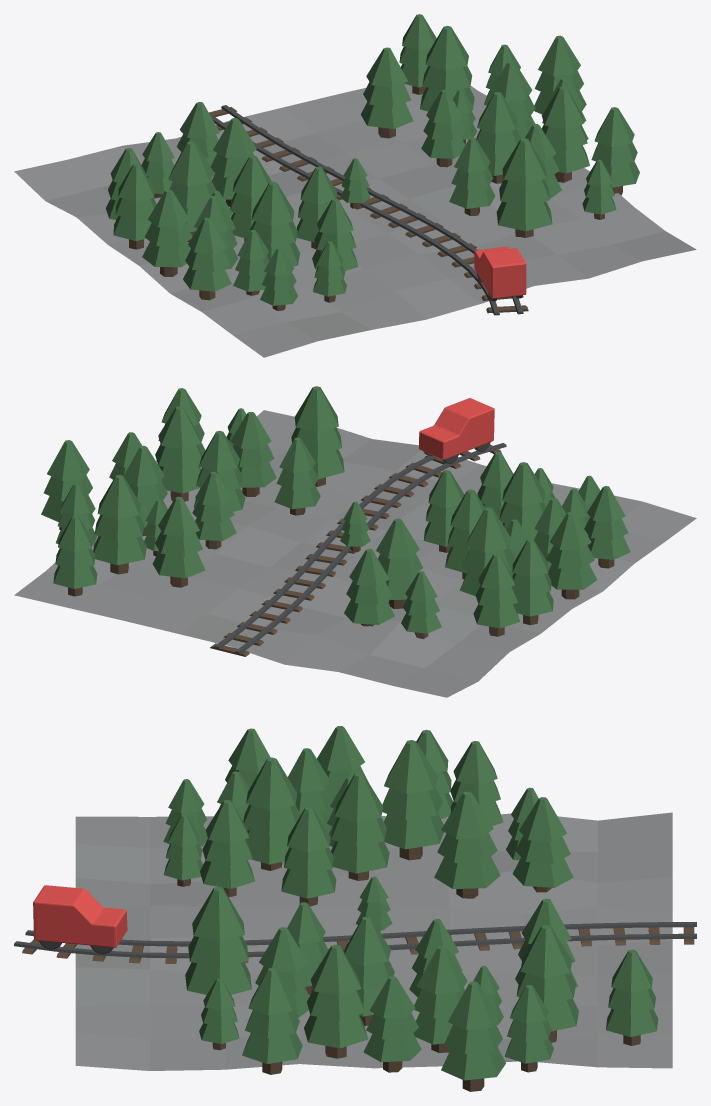
File: Dwarf.gltf
The picture shows the model from 3 angles, top to bottom: view 1: azimuth 30°, elevation 25°; view 2: azimuth 150°, elevation 25°; view 3: azimuth 270°, elevation 25°; orthographic projection. The views are drawn at different scales.
Visible parts, largest first — view 1: Pine_Tree_01 - copy (×31), Ground_Place, Tain_Tack_Iron, Train_Body, Tacks_Wood, Pine_Tree_01; view 2: Pine_Tree_01 - copy (×30), Ground_Place, Tain_Tack_Iron, Train_Body, Tacks_Wood, Pine_Tree_01; view 3: Pine_Tree_01 - copy (×32), Ground_Place, Train_Body, Tain_Tack_Iron, Tacks_Wood, Pine_Tree_01.
Part boxes in pixels (box(x1,y1,x2,y2)): Pine_Tree_01 - copy (×31): box(105, 14, 639, 310); Ground_Place: box(14, 83, 696, 357); Tain_Tack_Iron: box(209, 105, 523, 315); Train_Body: box(474, 246, 526, 301); Tacks_Wood: box(209, 107, 528, 313); Pine_Tree_01: box(340, 158, 370, 208); Pine_Tree_01 - copy (×30): box(41, 386, 630, 639); Ground_Place: box(14, 410, 696, 697); Tain_Tack_Iron: box(214, 443, 506, 654); Train_Body: box(419, 398, 494, 463); Tacks_Wood: box(210, 444, 501, 656); Pine_Tree_01: box(340, 501, 370, 552); Pine_Tree_01 - copy (×32): box(163, 726, 658, 1091); Ground_Place: box(75, 812, 672, 1070); Train_Body: box(33, 885, 127, 954); Tain_Tack_Iron: box(14, 922, 696, 958); Tacks_Wood: box(22, 927, 694, 963); Pine_Tree_01: box(355, 876, 392, 931).
Size of the model in its own units: 33.96 by 6.64 by 34.33.
